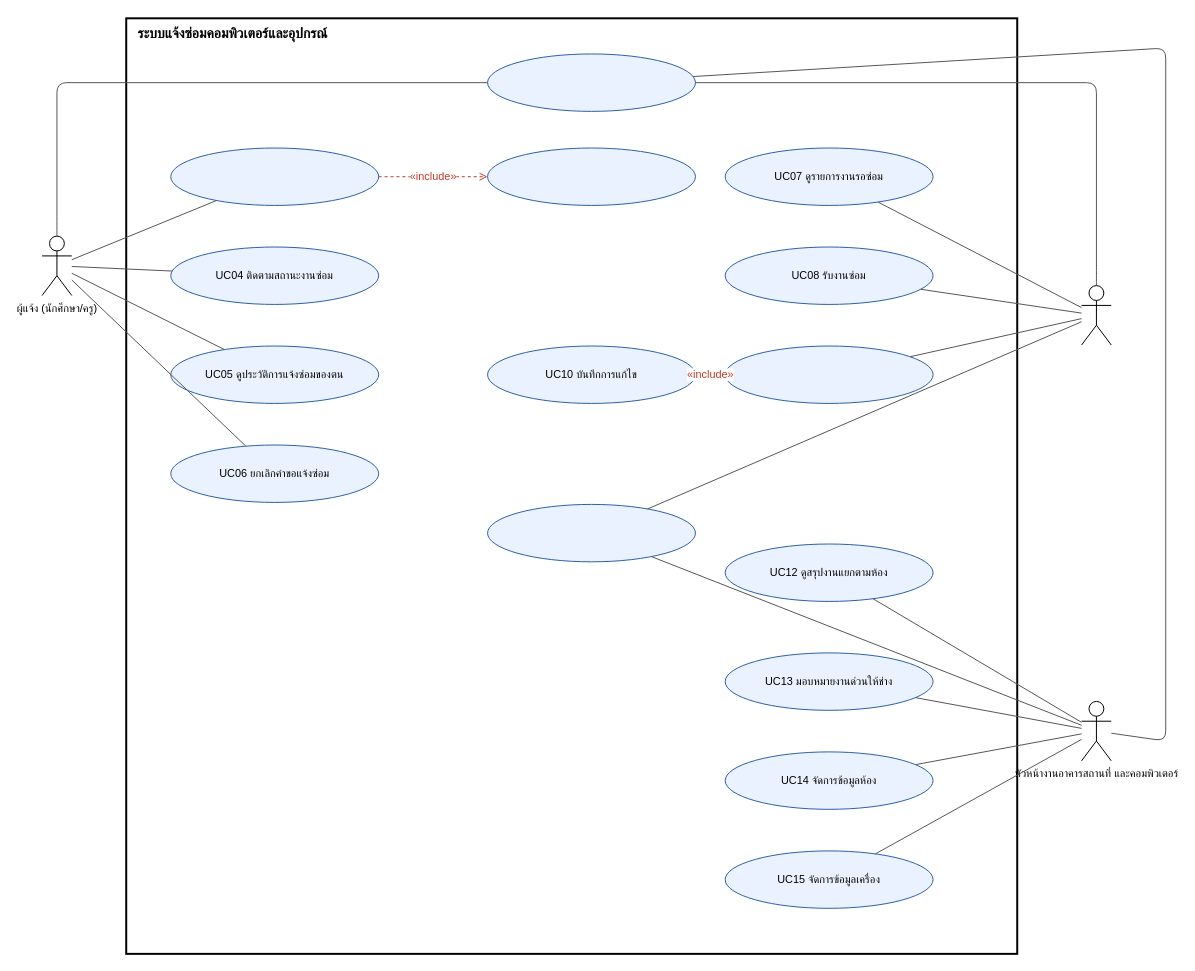
This 1195x971 diagram has some shape labels left out. The centre of each missing label's shape, as x and y in pixels:
"UC01 เข้าสู่ระบบ" belongs at pixel 591 82.
"UC02 แจ้งซ่อม" belongs at pixel 274 176.
"UC03 เลือกเครื่องคอมพิวเตอร์" belongs at pixel 591 176.
"UC09 อัปเดตสถานะงานซ่อม" belongs at pixel 828 374.
"UC11 ดูประวัติการซ่อมของเครื่อง" belongs at pixel 591 532.
"ช่างเทคนิค" belongs at pixel 1096 315.
